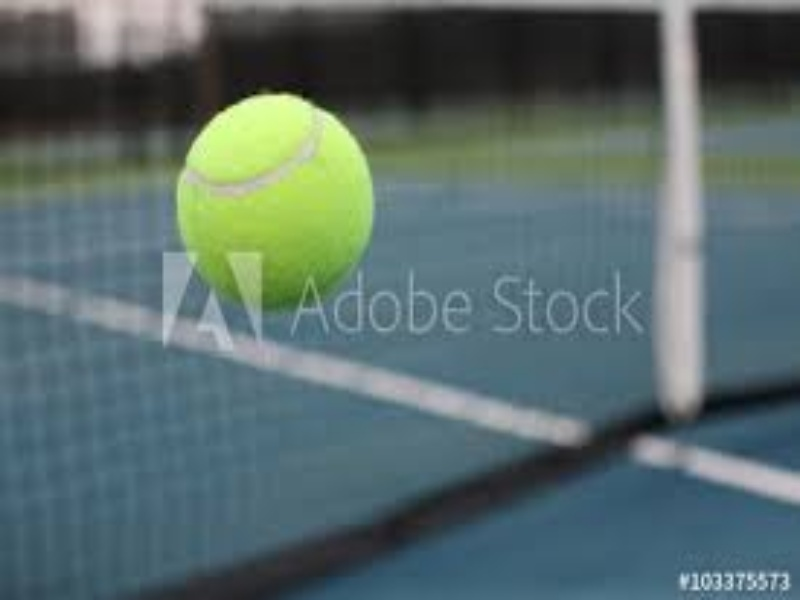tennis ball: (171, 74, 403, 334)
